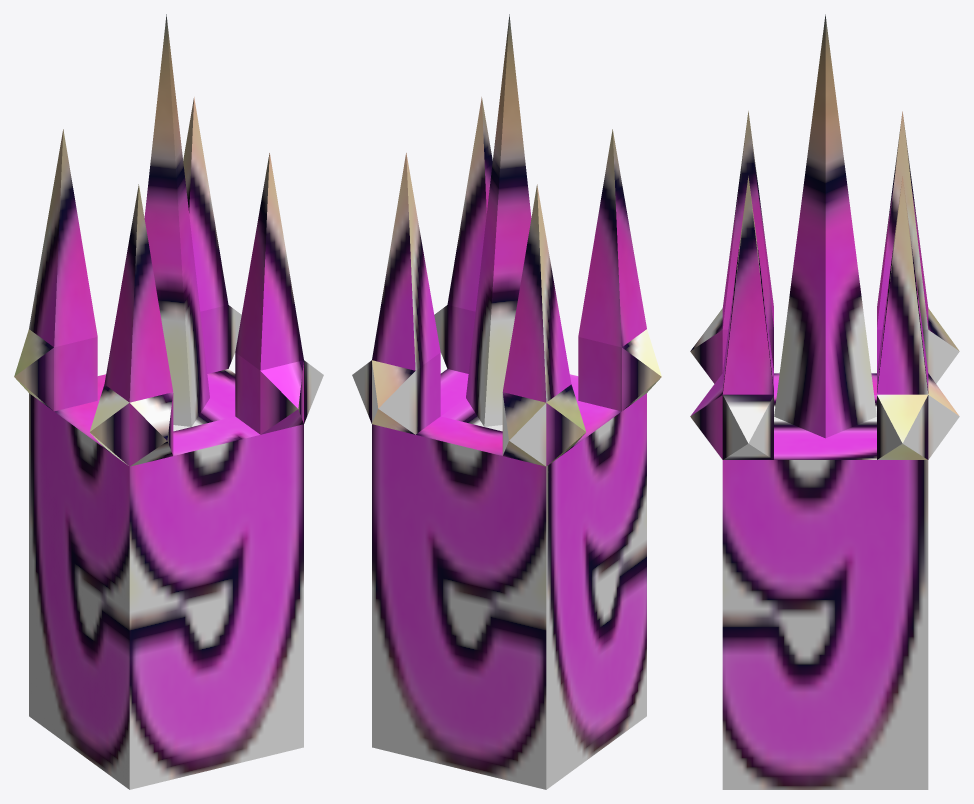
The model's file is tower.obj.
3 renders of one model, left to right at view 1: azimuth 30°, elevation 25°; view 2: azimuth 150°, elevation 25°; view 3: azimuth 270°, elevation 25°, orthographic. The views are drawn at different scales.
Parts seen in each view (by area): view 1: Cube; view 2: Cube; view 3: Cube.
Boxes of the visible parts, x1,y1,x2,y2 form: Cube: [14, 14, 323, 789]; Cube: [352, 14, 661, 789]; Cube: [690, 14, 959, 789].
Size of the model in its own units: 4.99 by 14.62 by 4.88.
